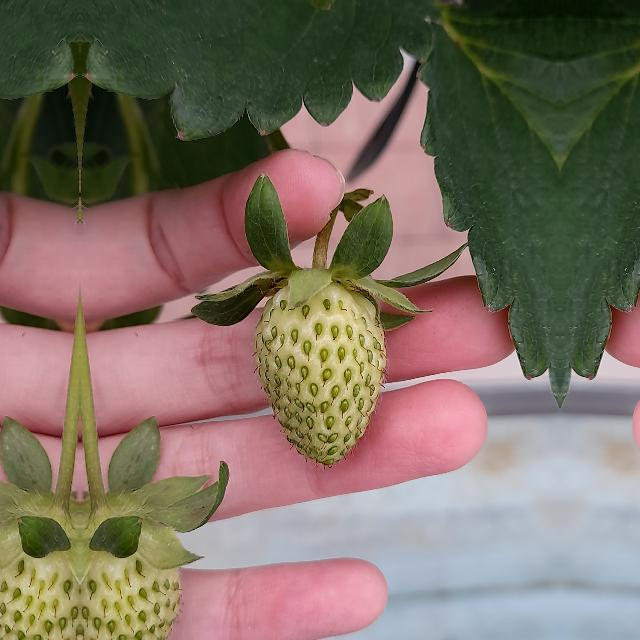Health_25: (254, 283, 386, 465), (80, 492, 192, 640), (0, 492, 79, 639)
